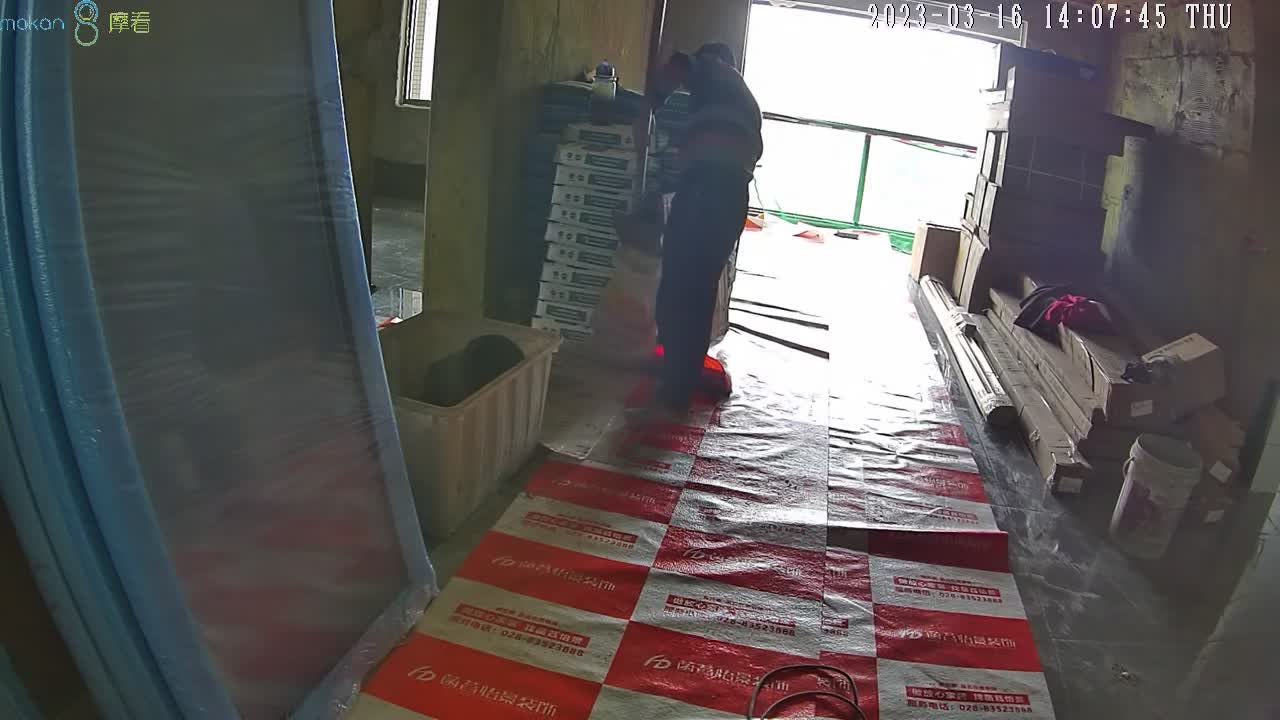people: (645, 41, 762, 406)
window: (740, 2, 1013, 232)
